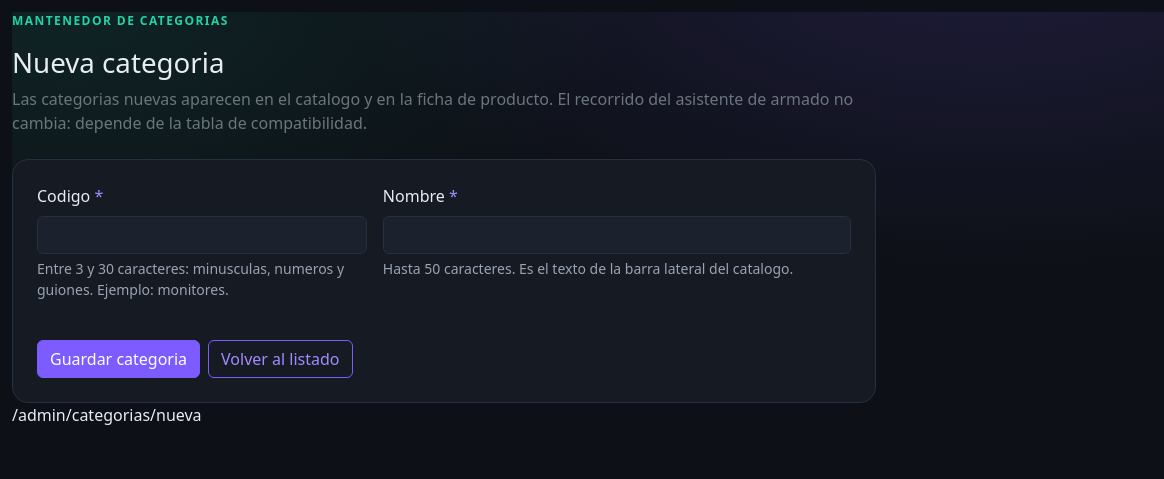
Test case: admin / FormularioCategoria › crear › enviar vacio marca ambos campos y no crea la categoria
The width and height of the screenshot is (1164, 479).
Click the button "Guardar categoria": (119, 359) [37,340,200,378]
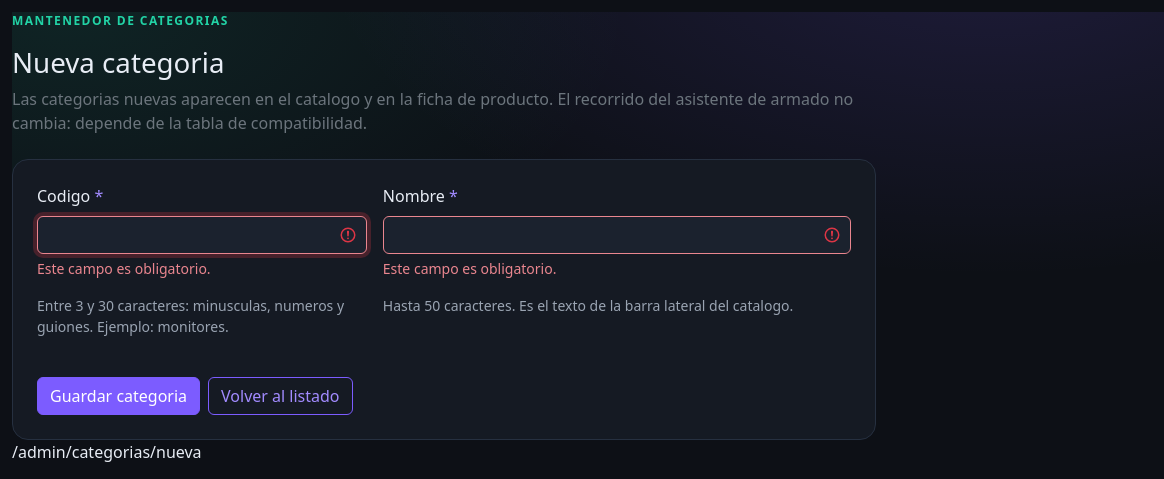
Check: the text "Este campo es obligatorio." is shown 2 times, box [37,259,211,278]; [383,259,556,278]
